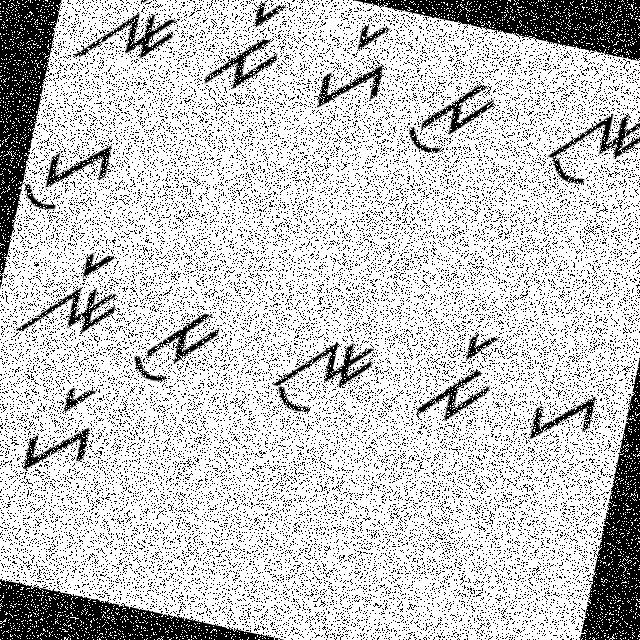ha: (512, 368, 602, 457)
har: (15, 374, 110, 488), (308, 5, 397, 121)
haw: (18, 119, 121, 225)
mbar: (404, 310, 510, 436), (199, 0, 296, 103)
mbaw: (123, 284, 230, 398), (402, 58, 506, 168)
ndar: (14, 230, 131, 358), (72, 0, 192, 81)
ndaw: (258, 311, 381, 434), (536, 88, 639, 203)
